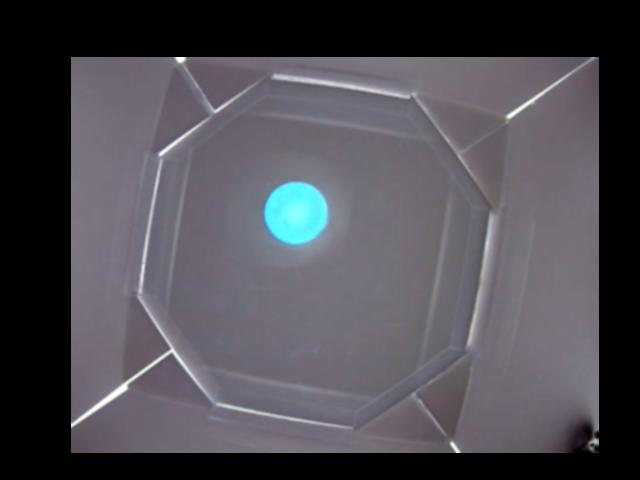Carrot: (264, 181, 327, 245)
